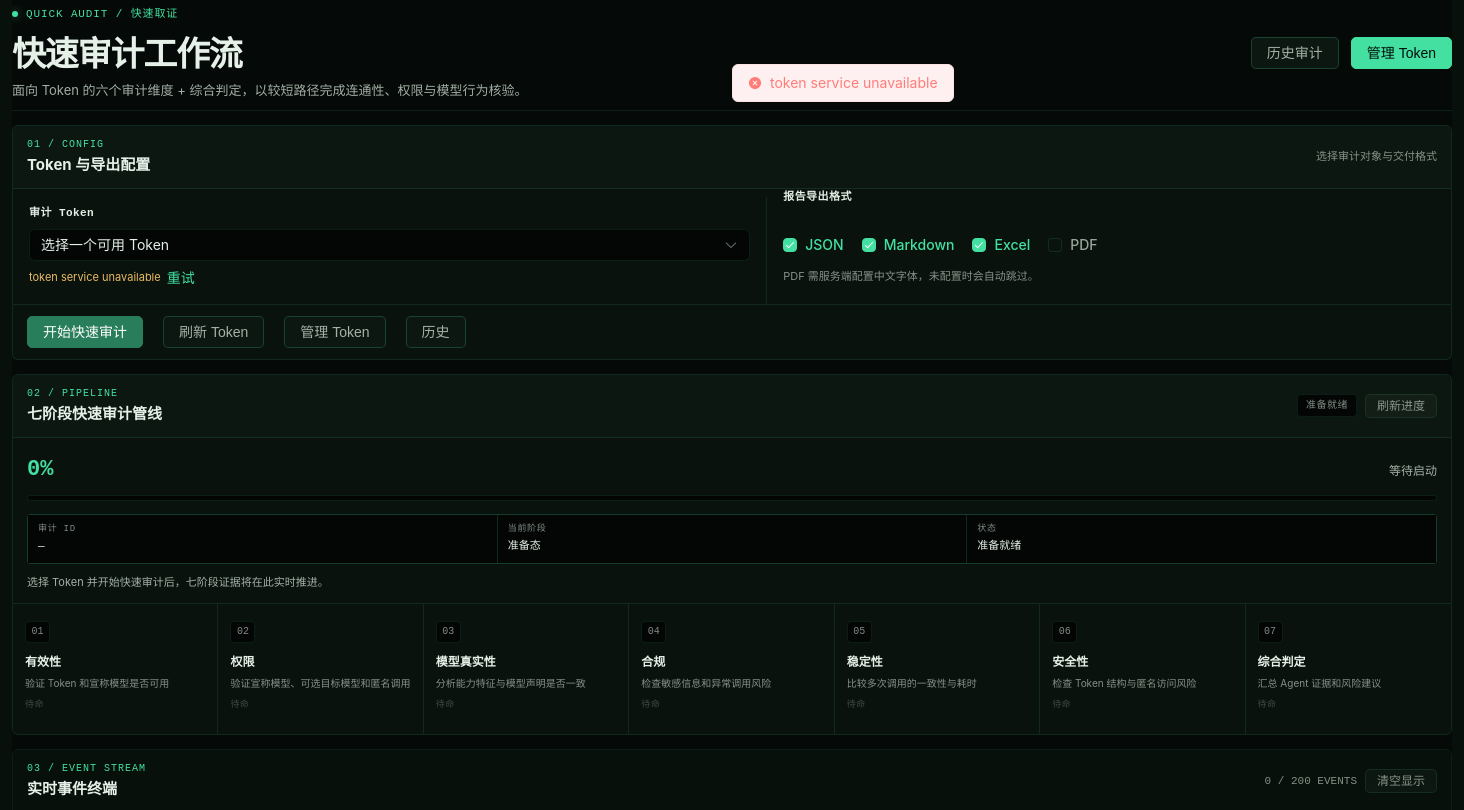
Test: AuditForm token loading states › keeps a token error visible and retries successfully
Expected: the message "token service unavailable 重试" is shown, 29,268 -> 198,288
Click the button with test id "retry-tokens": (181, 278) 164,268 -> 198,288
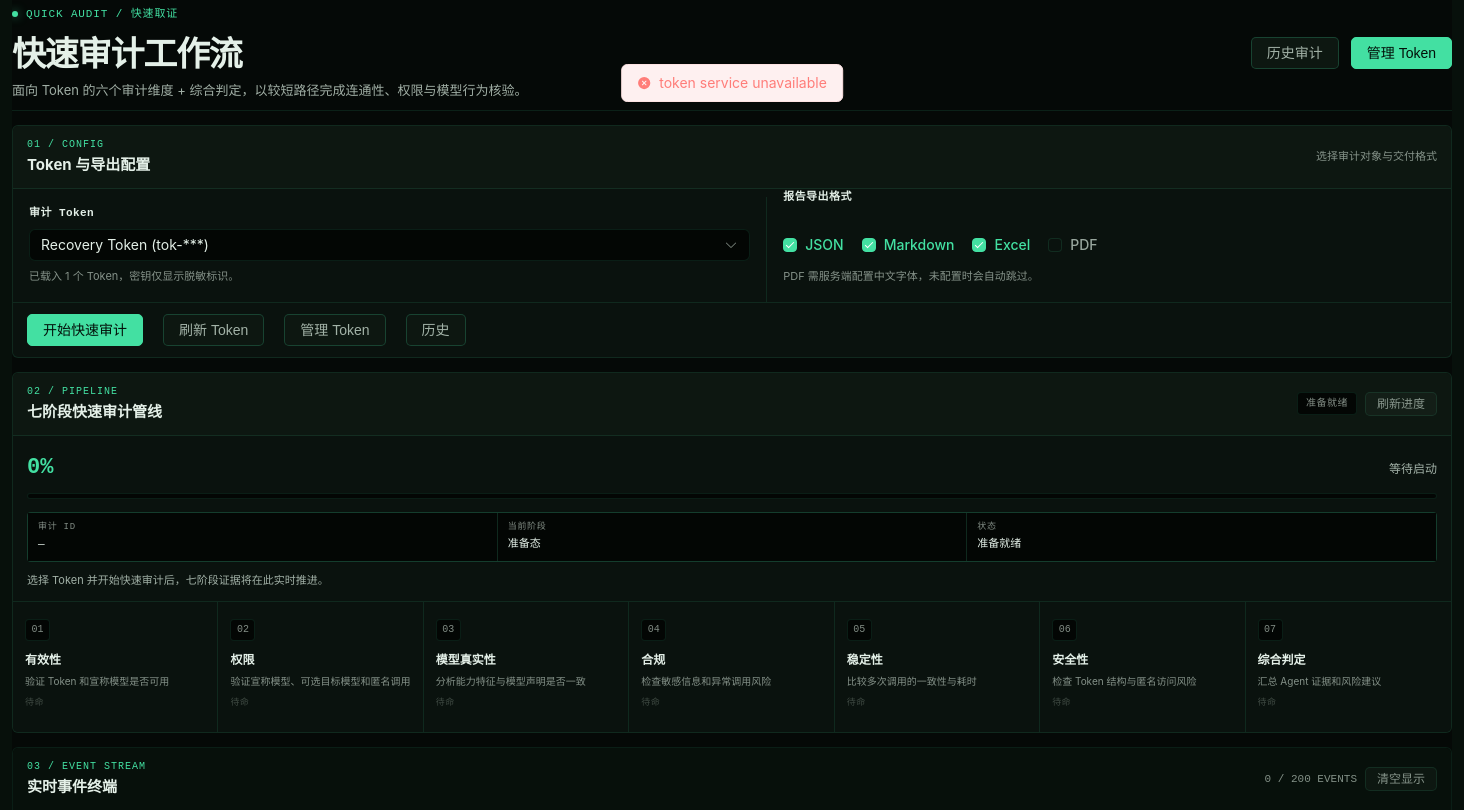
Now the text "Recovery Token" is shown, box 41,236 -> 209,253
